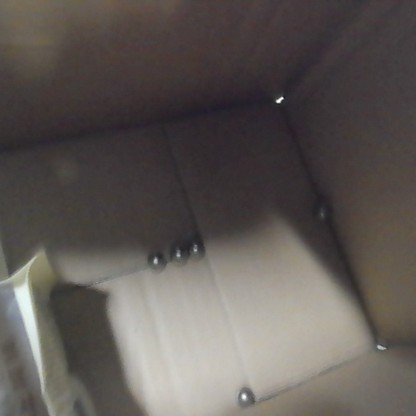ironball: (310, 198, 335, 228), (235, 382, 257, 409), (186, 236, 207, 262), (146, 249, 167, 274), (167, 242, 189, 265)
